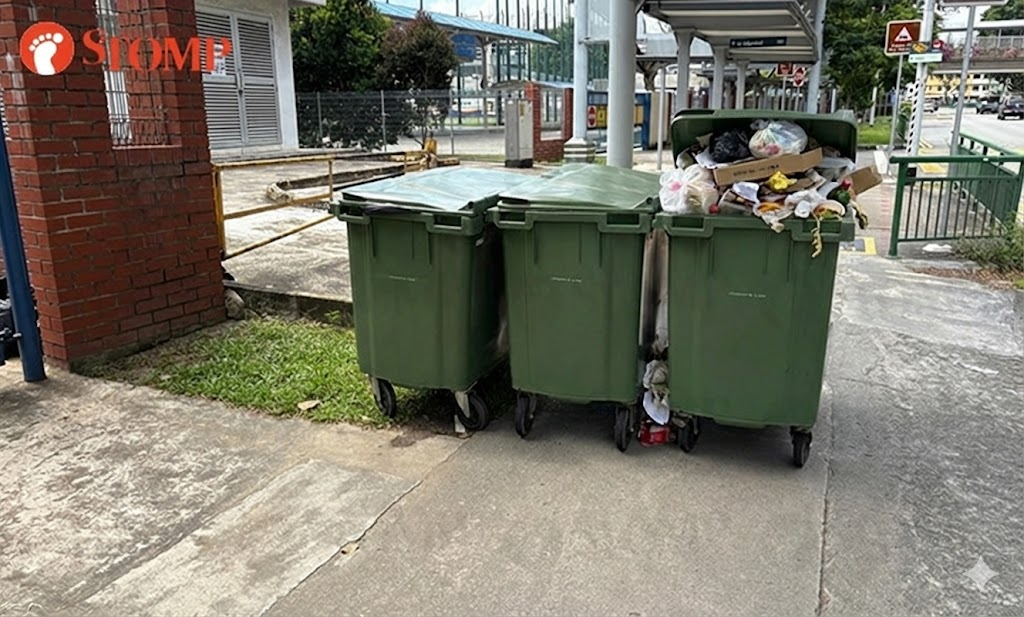bin_empty: (331, 167, 529, 430), (487, 163, 660, 451)
bin_full: (653, 110, 879, 466)
